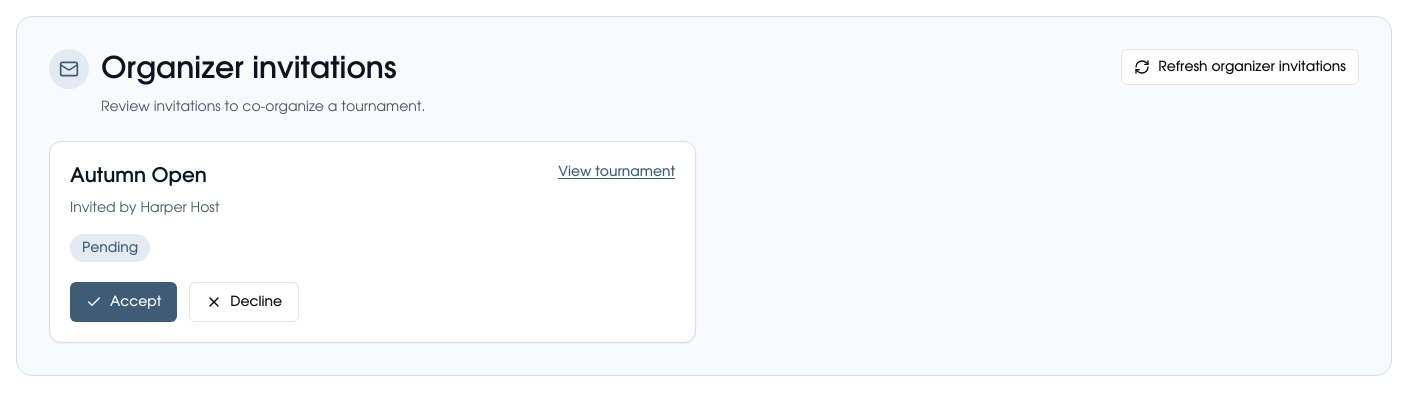
Test case: OrganizerInvitationInbox › accepts and then shows the refreshed accepted status
Click the button with aria-label "Accept invitation to Autumn Open": (124, 302) [70, 282, 177, 322]
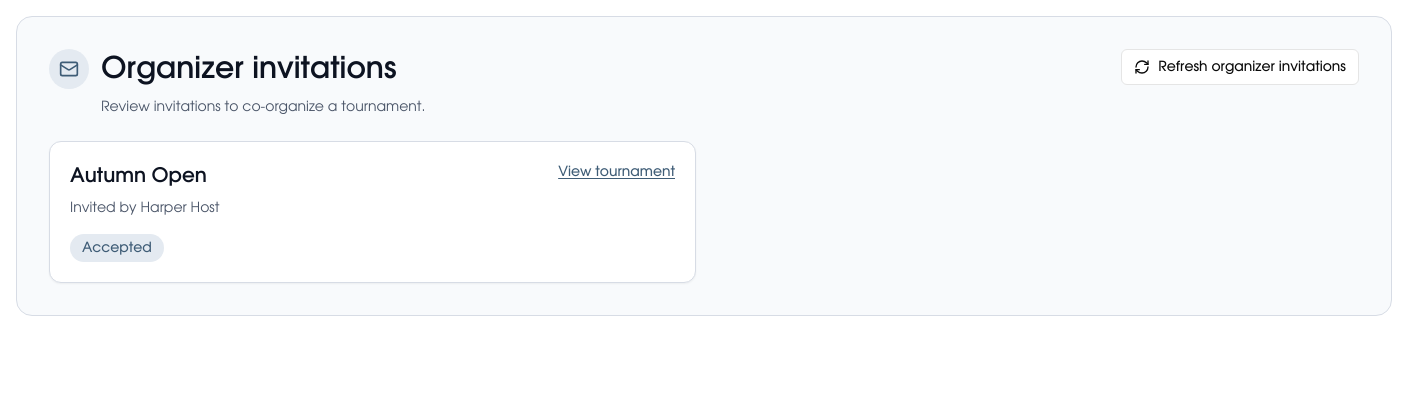
expect the text "Accepted" is shown: met, box [70, 234, 164, 262]
